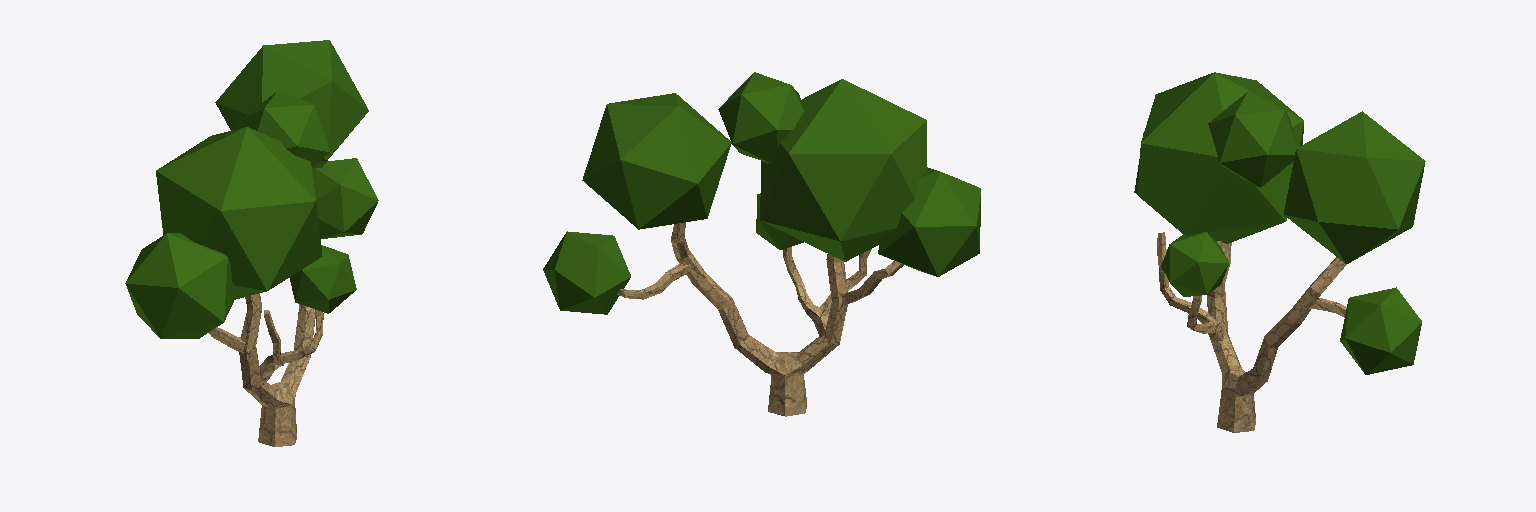
The picture shows the model from 3 angles: view 1: azimuth 30°, elevation 25°; view 2: azimuth 150°, elevation 25°; view 3: azimuth 270°, elevation 25°; orthographic projection.
Parts seen in each view (by area): view 1: Tree_lp_11; view 2: Tree_lp_11; view 3: Tree_lp_11.
Boxes of the visible parts, box(x1,y1,x2,y2) form: Tree_lp_11: box(125, 40, 378, 446); Tree_lp_11: box(543, 72, 980, 416); Tree_lp_11: box(1134, 72, 1425, 432).
Bounding box in the file's own units: 27.98 × 26.54 × 20.8.
2 materials, 1 textured.